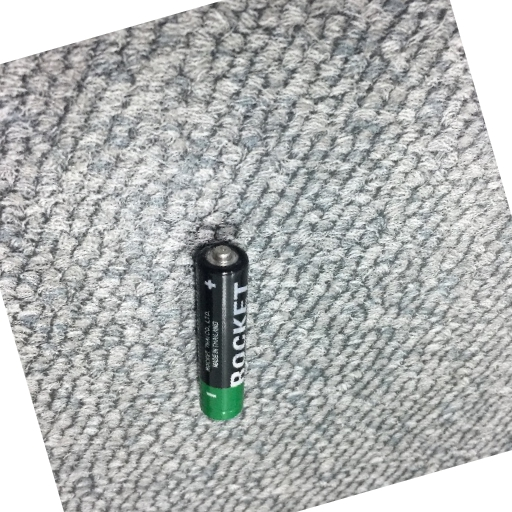Battery_0: (185, 235, 257, 430)
